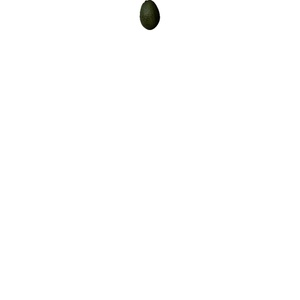abacate: (139, 1, 162, 31)
